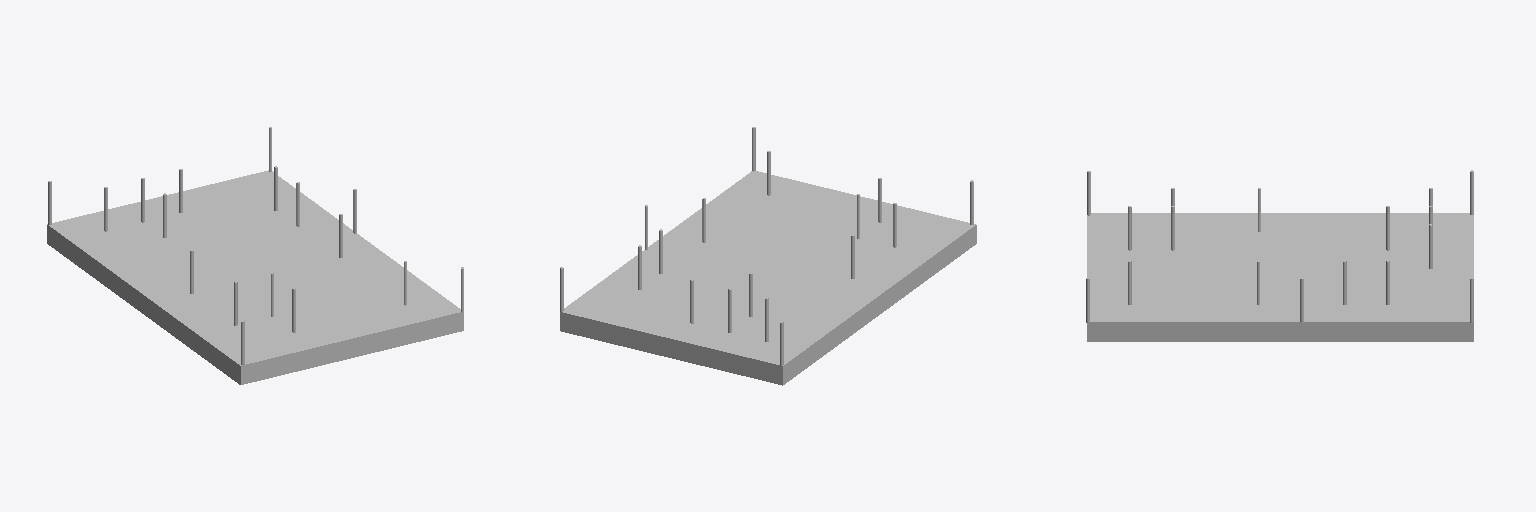
The model's file is Project3.obj.
3 views of the same model, side by side, from view 1: azimuth 30°, elevation 25°; view 2: azimuth 150°, elevation 25°; view 3: azimuth 270°, elevation 25° (orthographic).
Parts seen in each view (by area): view 1: Cube; view 2: Cube; view 3: Cube.
Part boxes in pixels (x1,y1,x2,y2): Cube: (47,127,463,384); Cube: (560,127,976,385); Cube: (1086,170,1473,341).
Size of the model in its own units: 12.03 by 3.23 by 18.04.